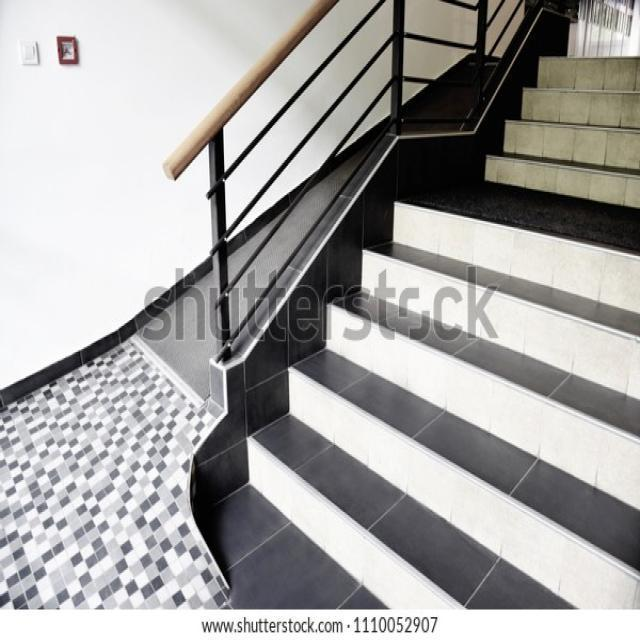stairs: (240, 51, 639, 610)
